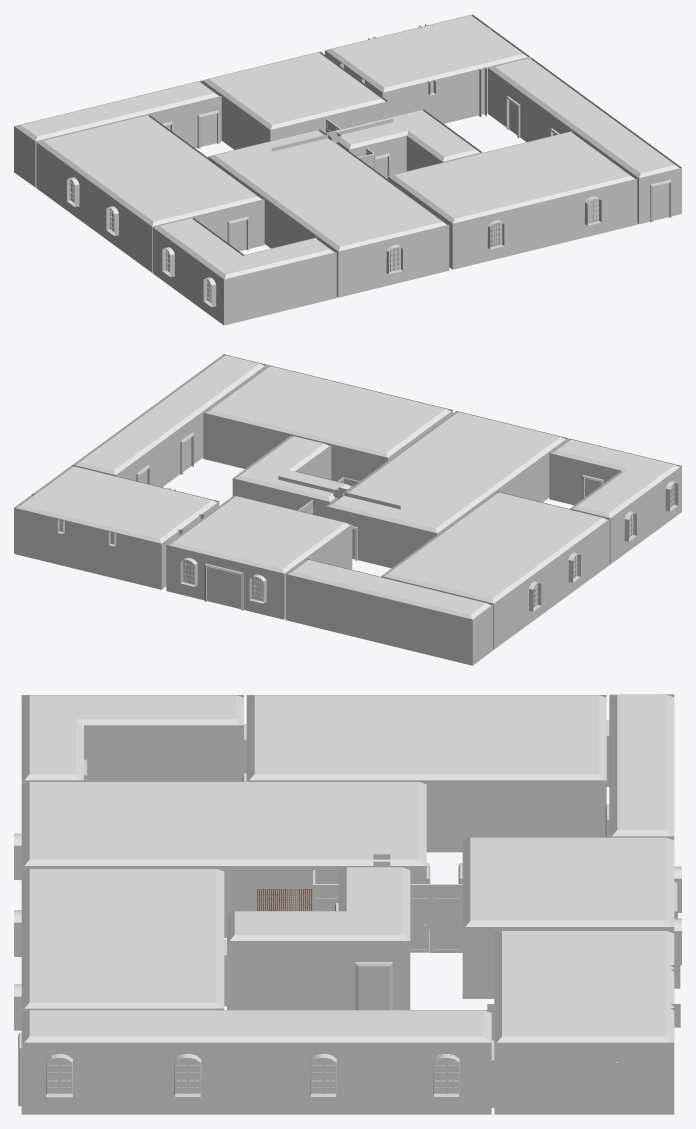
The model's file is PoliceStation.fbx.
3 views of the same model, one above another, from view 1: azimuth 30°, elevation 25°; view 2: azimuth 150°, elevation 25°; view 3: azimuth 270°, elevation 25° (orthographic). The views are drawn at different scales.
Parts seen in each view (by area): view 1: Ceiling, Room, WindowFrames, Windows, DoubleDoorFrame.001, Counter; view 2: Ceiling, Room, WindowFrames, Windows, DoubleDoorFrame.001, Counter; view 3: Ceiling, Room, Windows, WindowFrames, Fence, DoubleDoorFrame.001, FencedOffArea, Plane, FencedDoor.
Boxes of the visible parts, box(x1,y1,x2,y2) form: Ceiling: box(16, 15, 679, 279); Room: box(14, 14, 681, 325); WindowFrames: box(67, 177, 601, 307); Windows: box(70, 177, 599, 306); DoubleDoorFrame.001: box(162, 96, 671, 250); Counter: box(271, 118, 393, 151); Ceiling: box(16, 355, 679, 619); Room: box(14, 354, 681, 665); WindowFrames: box(180, 481, 678, 611); Windows: box(182, 481, 674, 610); DoubleDoorFrame.001: box(136, 433, 603, 610); Counter: box(278, 476, 400, 509); Ceiling: box(21, 694, 674, 1042); Room: box(21, 694, 680, 1114); Windows: box(19, 833, 676, 1094); WindowFrames: box(14, 833, 681, 1096); Fence: box(315, 887, 459, 949); DoubleDoorFrame.001: box(18, 720, 677, 1106); FencedOffArea: box(313, 870, 462, 952); Plane: box(257, 889, 312, 910); FencedDoor: box(410, 903, 429, 952).
Bounding box in the file's own units: 3727 × 499 × 2969.
